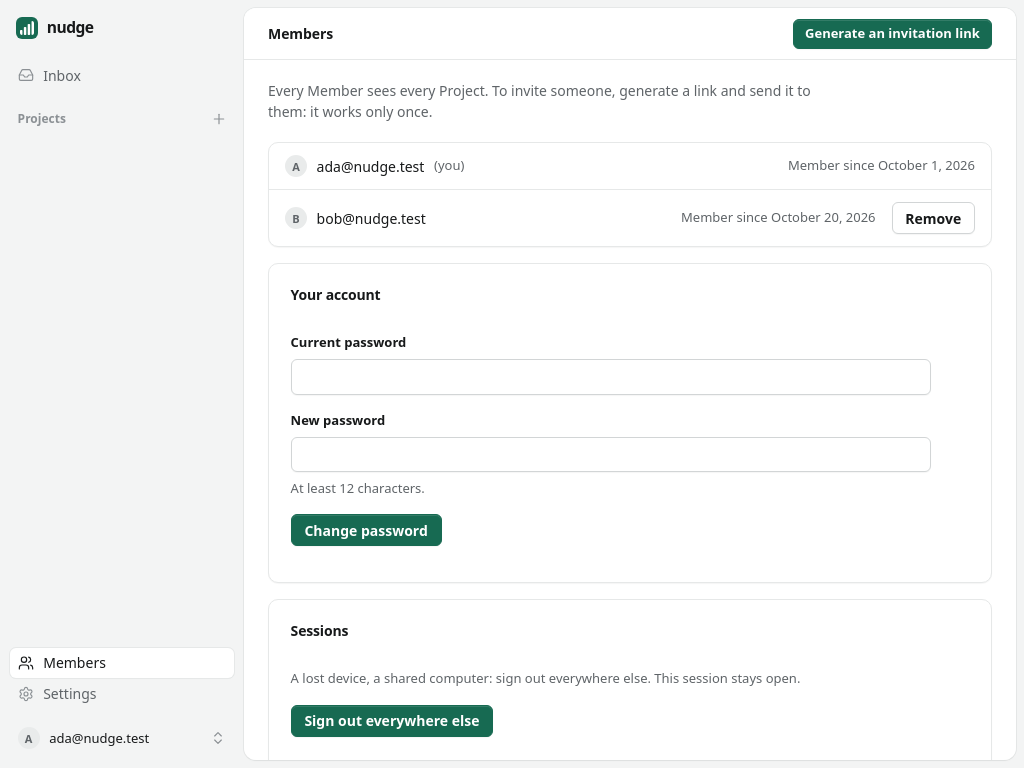
it: Members: own account › says the current password is wrong, and stays signed in
Type "not the password" into the password field labelled "Current password". click: (611, 377)
box: left=291, top=359, right=931, bottom=395
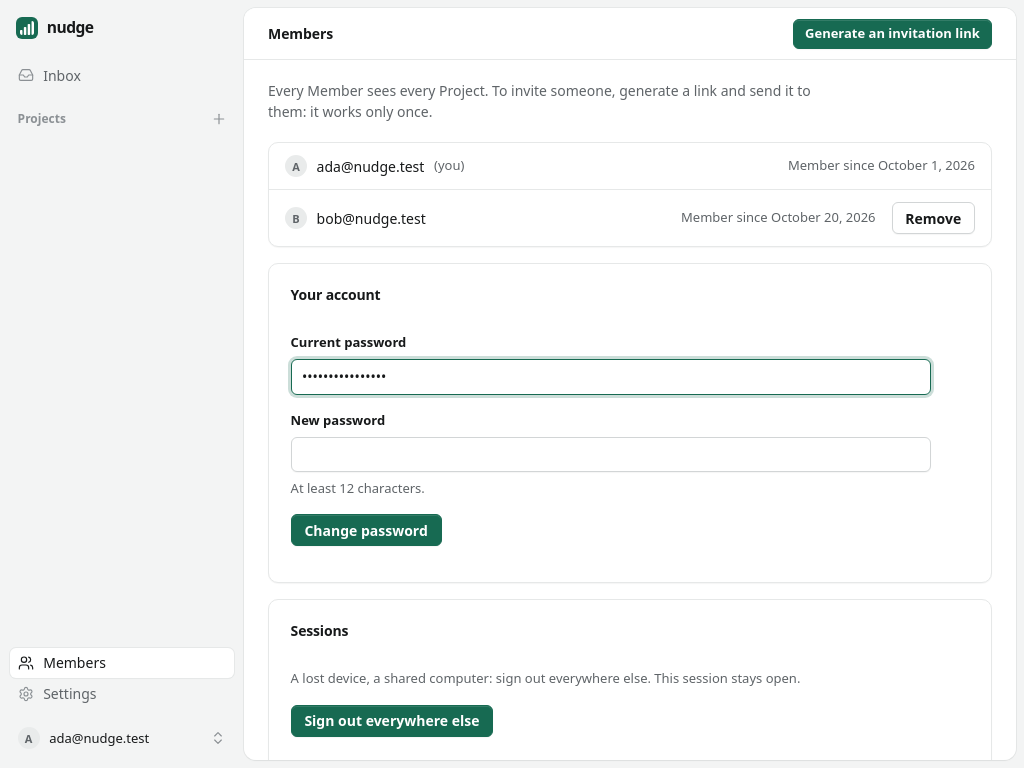
Type "a brand new password" into the password field labelled "New password". click: (611, 454)
box: left=291, top=437, right=931, bottom=472
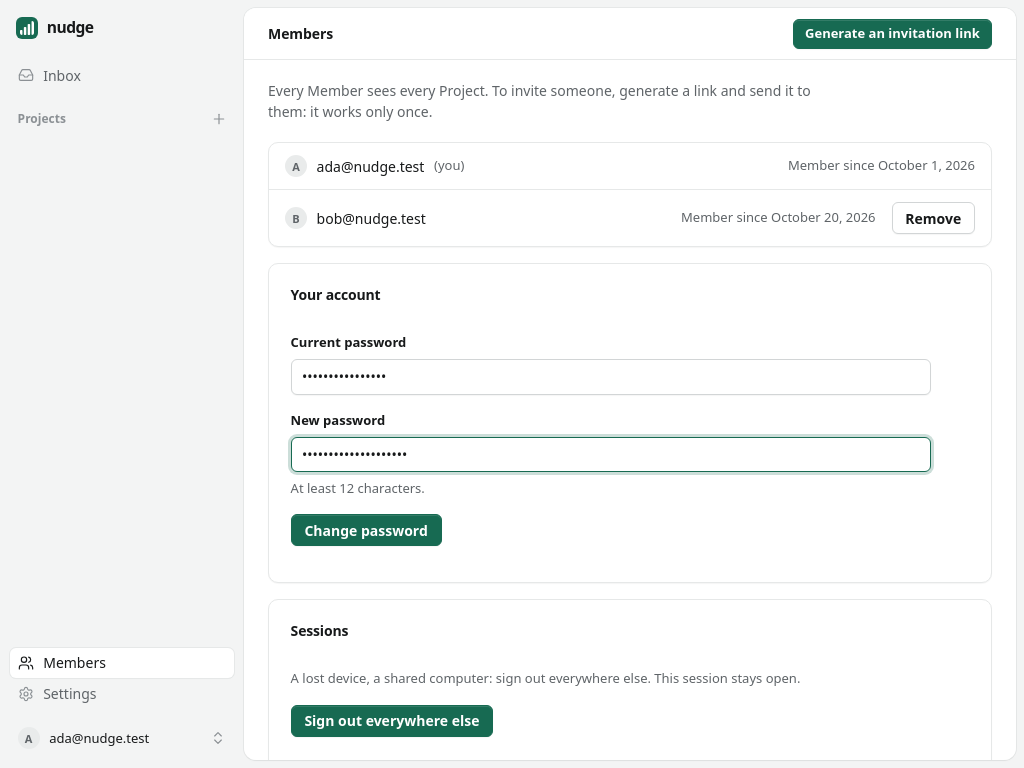
Click the button "Change password". click: (366, 530)
box: left=291, top=514, right=442, bottom=546
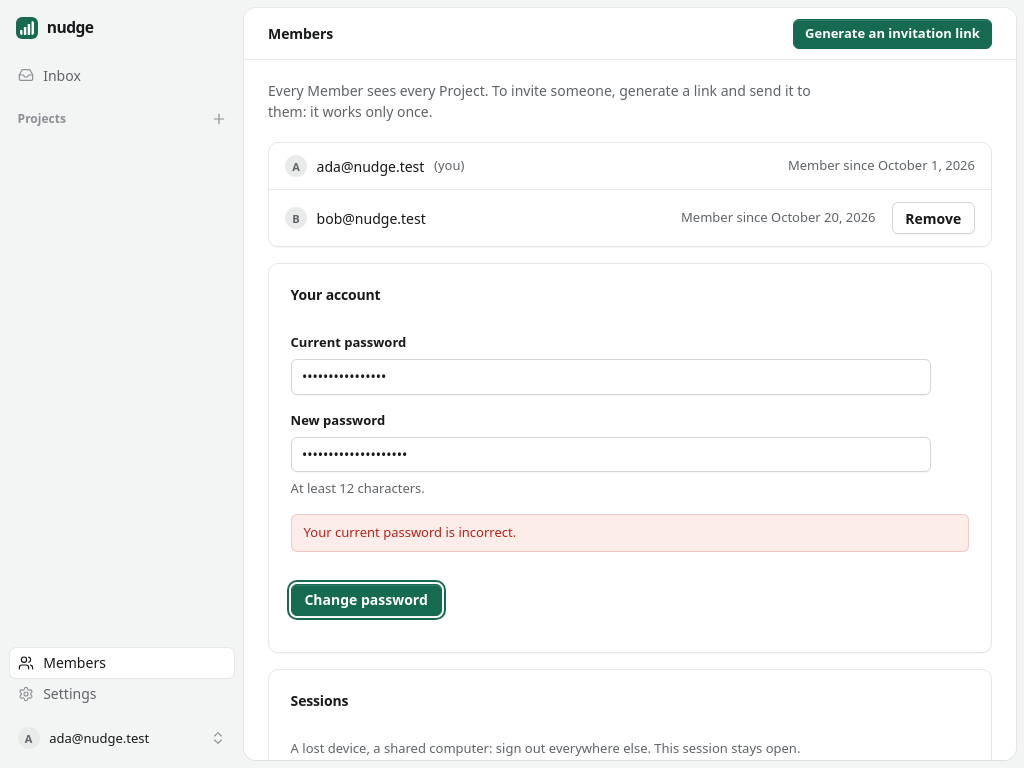
Check: the heading "Members" is shown, box left=268, top=23, right=333, bottom=44
Check: the message reads "Your current password is incorrect.", box left=304, top=523, right=516, bottom=541
